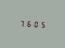five: (39, 20, 45, 28)
seven: (18, 19, 24, 27)
six: (25, 19, 31, 27)
zero: (32, 20, 38, 28)
